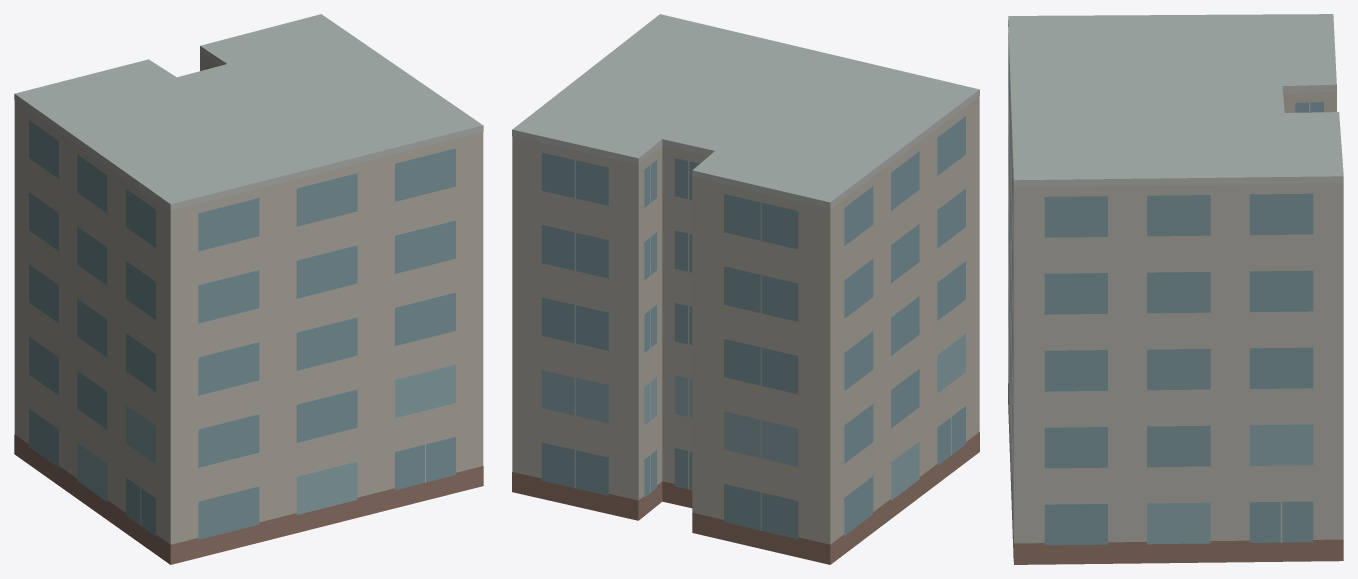
The model's file is survey-upis-32621884.glb.
3 views of the same model, side by side, from view 1: azimuth 30°, elevation 25°; view 2: azimuth 150°, elevation 25°; view 3: azimuth 270°, elevation 25° (orthographic). The views are drawn at different scales.
Visible parts, largest first — view 1: survey-upis-32621884.tmp; view 2: survey-upis-32621884.tmp; view 3: survey-upis-32621884.tmp.
Boxes of the visible parts, <box> form: survey-upis-32621884.tmp: <box>14,14,483,564</box>; survey-upis-32621884.tmp: <box>512,14,979,564</box>; survey-upis-32621884.tmp: <box>1008,14,1343,564</box>.
Size of the model in its own units: 12.42 by 13.4 by 10.61.
